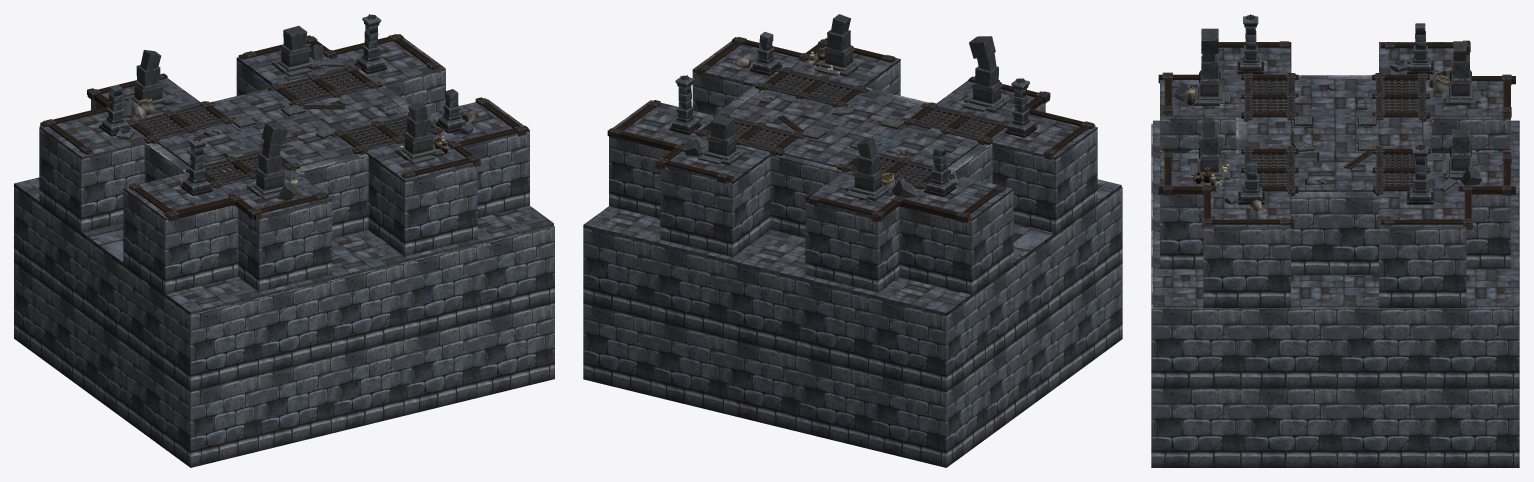
File: cell4.fbx
The picture shows the model from 3 angles, left to right: view 1: azimuth 30°, elevation 25°; view 2: azimuth 150°, elevation 25°; view 3: azimuth 270°, elevation 25°; orthographic projection. The views are drawn at different scales.
Parts seen in each view (by area): view 1: cell4; view 2: cell4; view 3: cell4.
Part boxes in pixels (x1,y1,x2,y2): cell4: [14, 14, 554, 467]; cell4: [583, 14, 1122, 467]; cell4: [1151, 14, 1519, 467].
Size of the model in its own units: 22.19 by 17.19 by 18.62.
